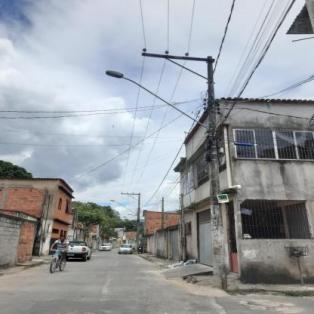Poste: (200, 53, 228, 290)
